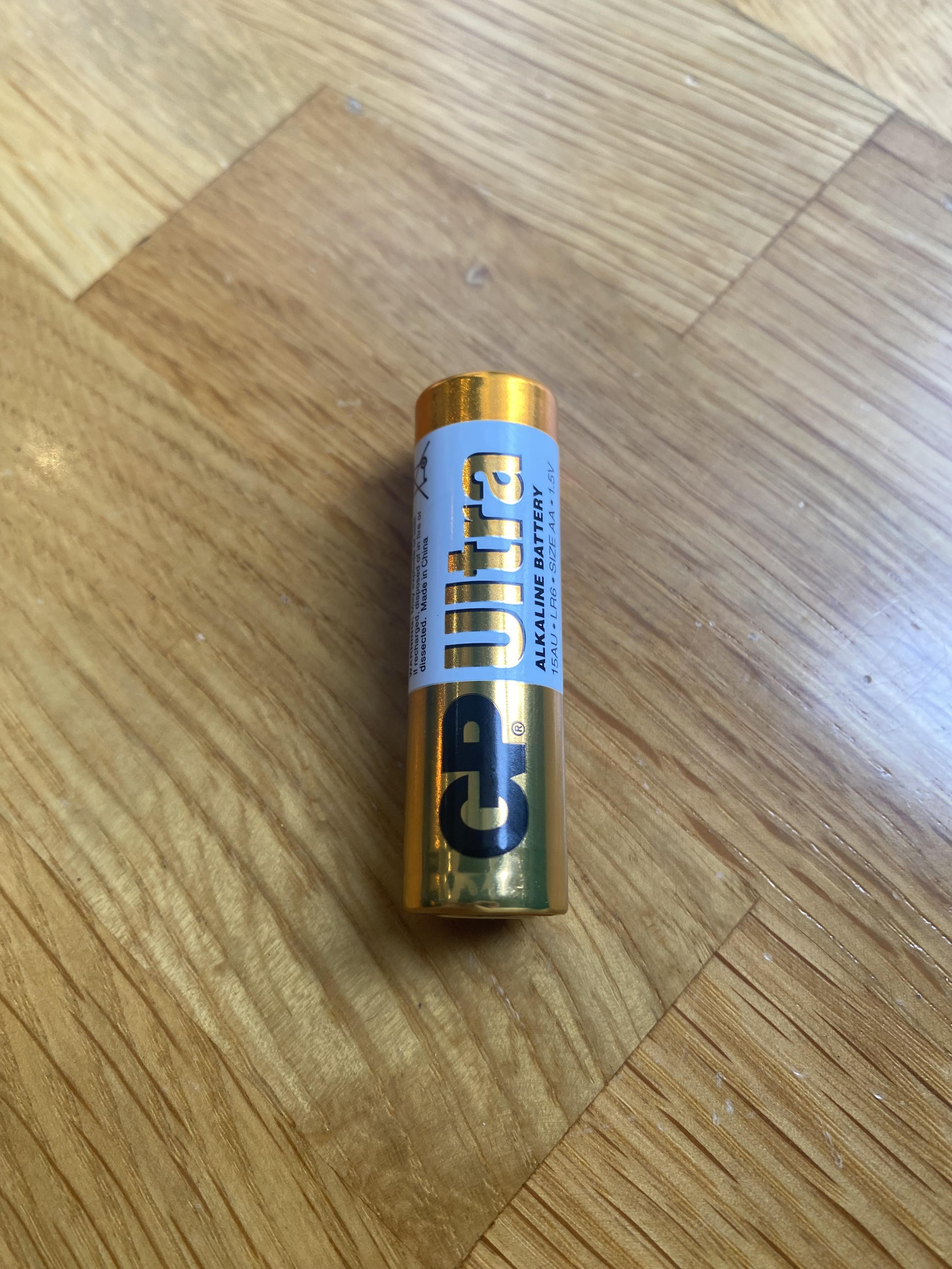AA: (400, 370, 569, 919)
